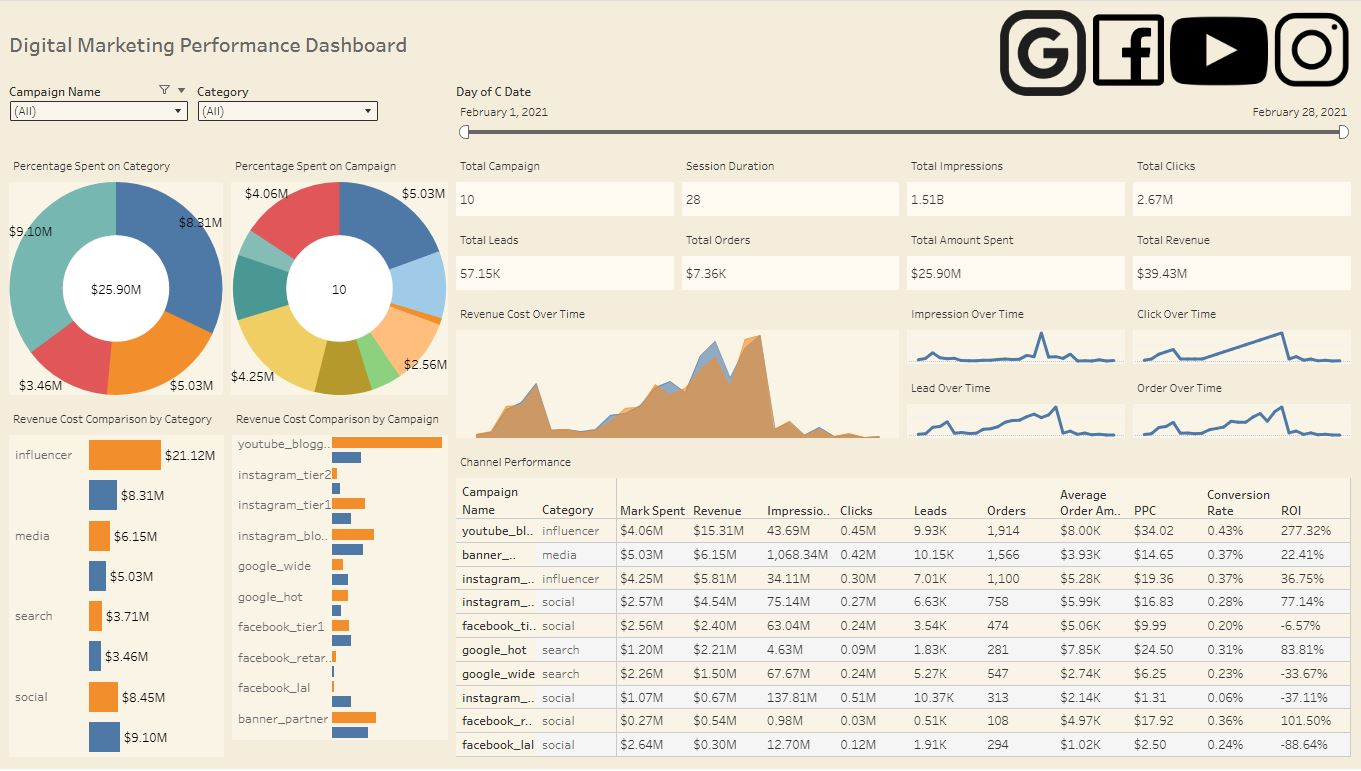

The dashboard page shown, as its layout file describes it:
{"tool":"powerbi","page":{"name":"Page 1","canvas":[1280,720],"ordinal":0},"visuals":[{"type":"donutChart","fields":{"Category":["Marketing.campaign_name"],"Y":["Sum(Marketing.mark_spent)"]},"box":[137.1,215.9,196.5,206.2],"z":0},{"type":"donutChart","fields":{"Category":["Marketing.category"],"Y":["Sum(Marketing.mark_spent)"]},"box":[0,231.5,137.1,151.7],"z":1000},{"type":"card","fields":{"Values":["Count(Marketing.campaign_id)"]},"box":[0,92.4,182.9,123.5],"z":2000},{"type":"card","fields":{"Values":["Sum(Marketing.impressions)"]},"box":[520.4,93.4,182.9,106],"z":3000},{"type":"card","fields":{"Values":["Sum(Marketing.mark_spent)"]},"box":[333.6,92.4,182.9,107],"z":4000},{"type":"card","fields":{"Values":["Sum(Marketing.clicks)"]},"box":[712,106,182.9,93.4],"z":5000},{"type":"card","fields":{"Values":["Sum(Marketing.leads)"]},"box":[880.2,89.5,150.8,113.8],"z":6000},{"type":"card","fields":{"Values":["Sum(Marketing.orders)"]},"box":[1031,113.8,150.8,93.4],"z":7000},{"type":"card","fields":{"Values":["Sum(Marketing.revenue)"]},"box":[1129.2,109.9,150.8,106],"z":8000},{"type":"areaChart","fields":{"Category":["Marketing.c_date.Variation.Date Hierarchy.Day"],"Y":["Sum(Marketing.revenue)","Sum(Marketing.mark_spent)"]},"box":[333.6,201.3,436.7,258.7],"z":9000},{"type":"tableEx","fields":{"Values":["Marketing.campaign_name","Marketing.category","Sum(Marketing.impressions)","Sum(Marketing.clicks)","Sum(Marketing.leads)","Sum(Marketing.orders)","Sum(Marketing.mark_spent)","Sum(Marketing.revenue)"]},"box":[333.6,436.7,946.4,283],"z":11000},{"type":"card","fields":{"Values":["Count(Marketing.c_date)"]},"box":[182.9,92.4,150.8,123.5],"z":12000},{"type":"slicer","fields":{"Values":["Marketing.c_date"]},"box":[703.2,0,182.9,91.4],"z":13000},{"type":"slicer","fields":{"Values":["Marketing.campaign_name"]},"box":[924,0,182.9,91.4],"z":14000},{"type":"slicer","fields":{"Values":["Marketing.category"]},"box":[1129.2,4.9,150.8,86.6],"z":15000},{"type":"clusteredBarChart","fields":{"Category":["Marketing.category"],"Y":["Sum(Marketing.revenue)","Sum(Marketing.mark_spent)"]},"box":[0,404.6,150.8,315.1],"z":16000},{"type":"clusteredBarChart","fields":{"Category":["Marketing.campaign_name"],"Y":["Sum(Marketing.revenue)","Sum(Marketing.mark_spent)"]},"box":[151,407,151,300],"z":17000},{"type":"lineChart","fields":{"Y":["Sum(Marketing.impressions)"],"Category":["Marketing.c_date.Variation.Date Hierarchy.Day"]},"box":[770.3,203.3,225.7,91.4],"z":17001},{"type":"lineChart","fields":{"Y":["Sum(Marketing.clicks)"],"Category":["Marketing.c_date.Variation.Date Hierarchy.Day"]},"box":[996,201.3,284,93.4],"z":17002},{"type":"lineChart","fields":{"Category":["Marketing.c_date.Variation.Date Hierarchy.Day"],"Y":["Sum(Marketing.leads)"]},"box":[770.3,294.7,267.5,127.4],"z":17003},{"type":"lineChart","fields":{"Category":["Marketing.c_date.Variation.Date Hierarchy.Day"],"Y":["Sum(Marketing.orders)"]},"box":[1015.4,294.7,264.6,127.4],"z":17004}]}

Visuals, with their boxes in screenshot pixels (x1, y1, x2, y2), scaled from the page's 1280x720 canvas onto the 1361x771 screenshot:
donutChart - Marketing.campaign_name x Sum(Marketing.mark_spent): pyautogui.locateOnScreen(146, 231, 355, 452)
donutChart - Marketing.category x Sum(Marketing.mark_spent): pyautogui.locateOnScreen(0, 248, 146, 410)
card - Count(Marketing.campaign_id): pyautogui.locateOnScreen(0, 99, 194, 231)
card - Sum(Marketing.impressions): pyautogui.locateOnScreen(553, 100, 748, 214)
card - Sum(Marketing.mark_spent): pyautogui.locateOnScreen(355, 99, 549, 214)
card - Sum(Marketing.clicks): pyautogui.locateOnScreen(757, 114, 952, 214)
card - Sum(Marketing.leads): pyautogui.locateOnScreen(936, 96, 1096, 218)
card - Sum(Marketing.orders): pyautogui.locateOnScreen(1096, 122, 1257, 222)
card - Sum(Marketing.revenue): pyautogui.locateOnScreen(1201, 118, 1360, 231)
areaChart - Marketing.c_date.Variation.Date Hierarchy.Day x Sum(Marketing.revenue): pyautogui.locateOnScreen(355, 216, 819, 493)
tableEx - Marketing.campaign_name x Marketing.category: pyautogui.locateOnScreen(355, 468, 1360, 770)
card - Count(Marketing.c_date): pyautogui.locateOnScreen(194, 99, 355, 231)
slicer - Marketing.c_date: pyautogui.locateOnScreen(748, 0, 942, 98)
slicer - Marketing.campaign_name: pyautogui.locateOnScreen(982, 0, 1177, 98)
slicer - Marketing.category: pyautogui.locateOnScreen(1201, 5, 1360, 98)
clusteredBarChart - Marketing.category x Sum(Marketing.revenue): pyautogui.locateOnScreen(0, 433, 160, 770)
clusteredBarChart - Marketing.campaign_name x Sum(Marketing.revenue): pyautogui.locateOnScreen(161, 436, 321, 757)
lineChart - Sum(Marketing.impressions) x Marketing.c_date.Variation.Date Hierarchy.Day: pyautogui.locateOnScreen(819, 218, 1059, 316)
lineChart - Sum(Marketing.clicks) x Marketing.c_date.Variation.Date Hierarchy.Day: pyautogui.locateOnScreen(1059, 216, 1360, 316)
lineChart - Marketing.c_date.Variation.Date Hierarchy.Day x Sum(Marketing.leads): pyautogui.locateOnScreen(819, 316, 1103, 452)
lineChart - Marketing.c_date.Variation.Date Hierarchy.Day x Sum(Marketing.orders): pyautogui.locateOnScreen(1080, 316, 1360, 452)
